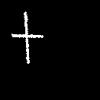single_crochet: (12, 12, 42, 63)
